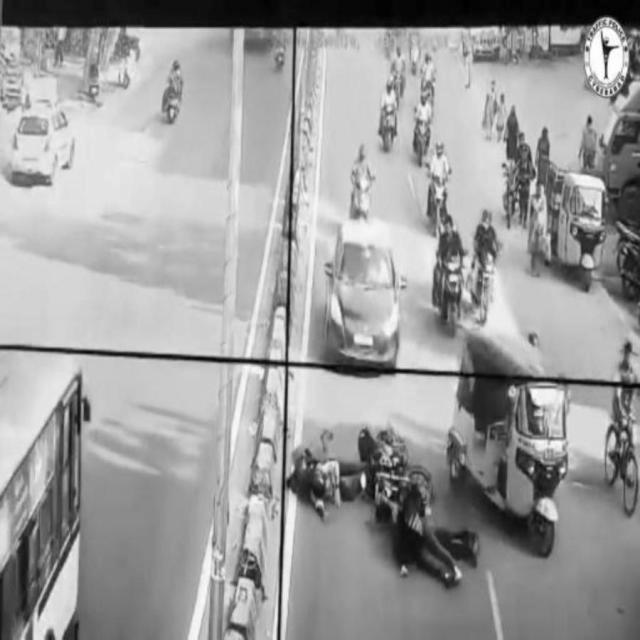accident: (296, 427, 482, 587)
vehicle: (453, 319, 561, 557), (325, 215, 402, 369), (542, 150, 606, 281), (608, 335, 640, 510), (14, 106, 76, 184), (437, 219, 467, 332), (470, 208, 497, 324), (425, 141, 453, 231), (348, 139, 376, 227), (163, 55, 187, 128), (411, 94, 431, 165), (381, 77, 397, 153)
